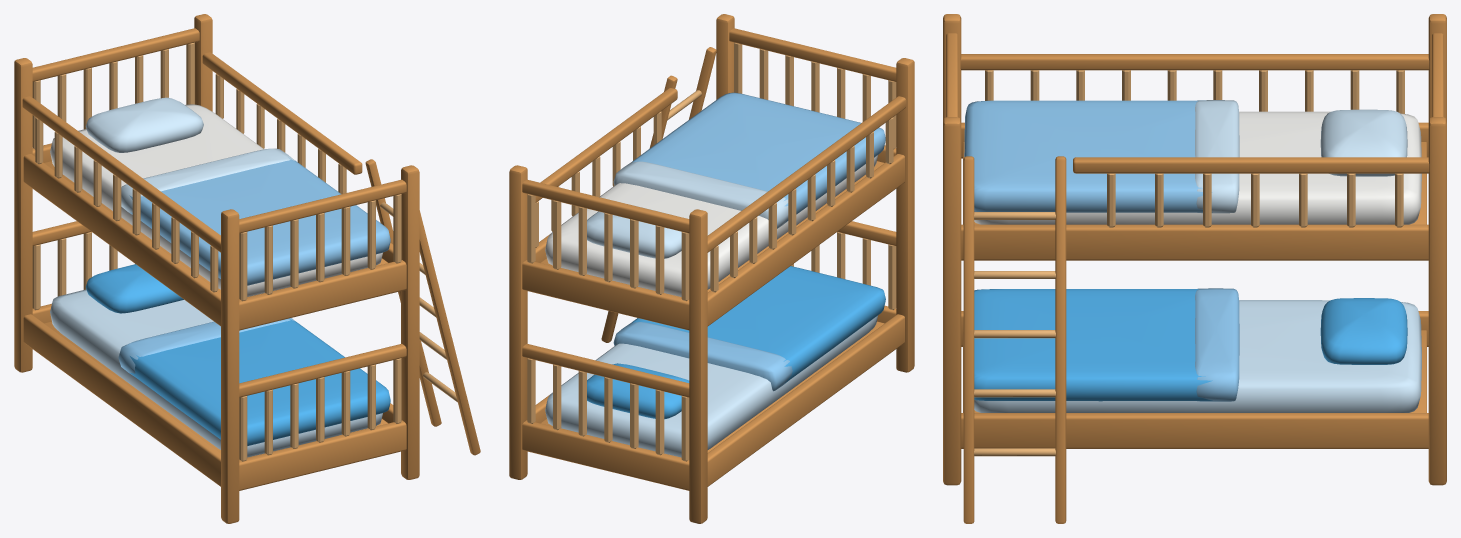
The model's file is beliche_madeira_mel.glb.
The picture shows the model from 3 angles, left to right: view 1: azimuth 30°, elevation 25°; view 2: azimuth 150°, elevation 25°; view 3: azimuth 270°, elevation 25°; orthographic projection. The views are drawn at different scales.
Visible parts, largest first — view 1: beliche_madeira_mel; view 2: beliche_madeira_mel; view 3: beliche_madeira_mel.
Part boxes in pixels (x1,y1,x2,y2): beliche_madeira_mel: (14, 14, 480, 523); beliche_madeira_mel: (509, 14, 914, 523); beliche_madeira_mel: (943, 14, 1446, 523).
Size of the model in its own units: 1.48 by 1.66 by 2.09.
1 material, 1 textured.
